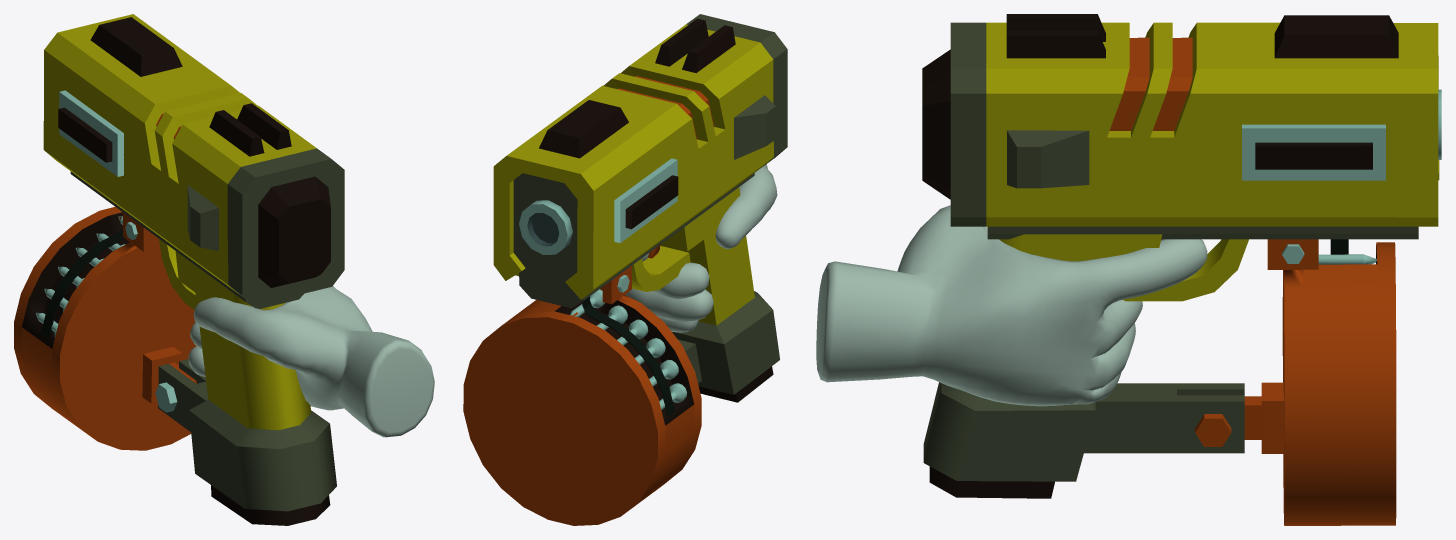
The model's file is handgun1.fbx.
3 views of the same model, side by side, from view 1: azimuth 30°, elevation 25°; view 2: azimuth 150°, elevation 25°; view 3: azimuth 270°, elevation 25° (orthographic). The views are drawn at different scales.
Parts seen in each view (by area): view 1: handgun1, hand; view 2: handgun1, hand; view 3: handgun1, hand.
Boxes of the visible parts, bbox=[...] form: handgun1: bbox=[14, 14, 344, 525]; hand: bbox=[188, 286, 434, 437]; handgun1: bbox=[463, 14, 787, 525]; hand: bbox=[625, 164, 777, 332]; handgun1: bbox=[922, 14, 1441, 525]; hand: bbox=[816, 205, 1207, 406].
Bounding box in the file's own units: 105 × 200 × 233.
